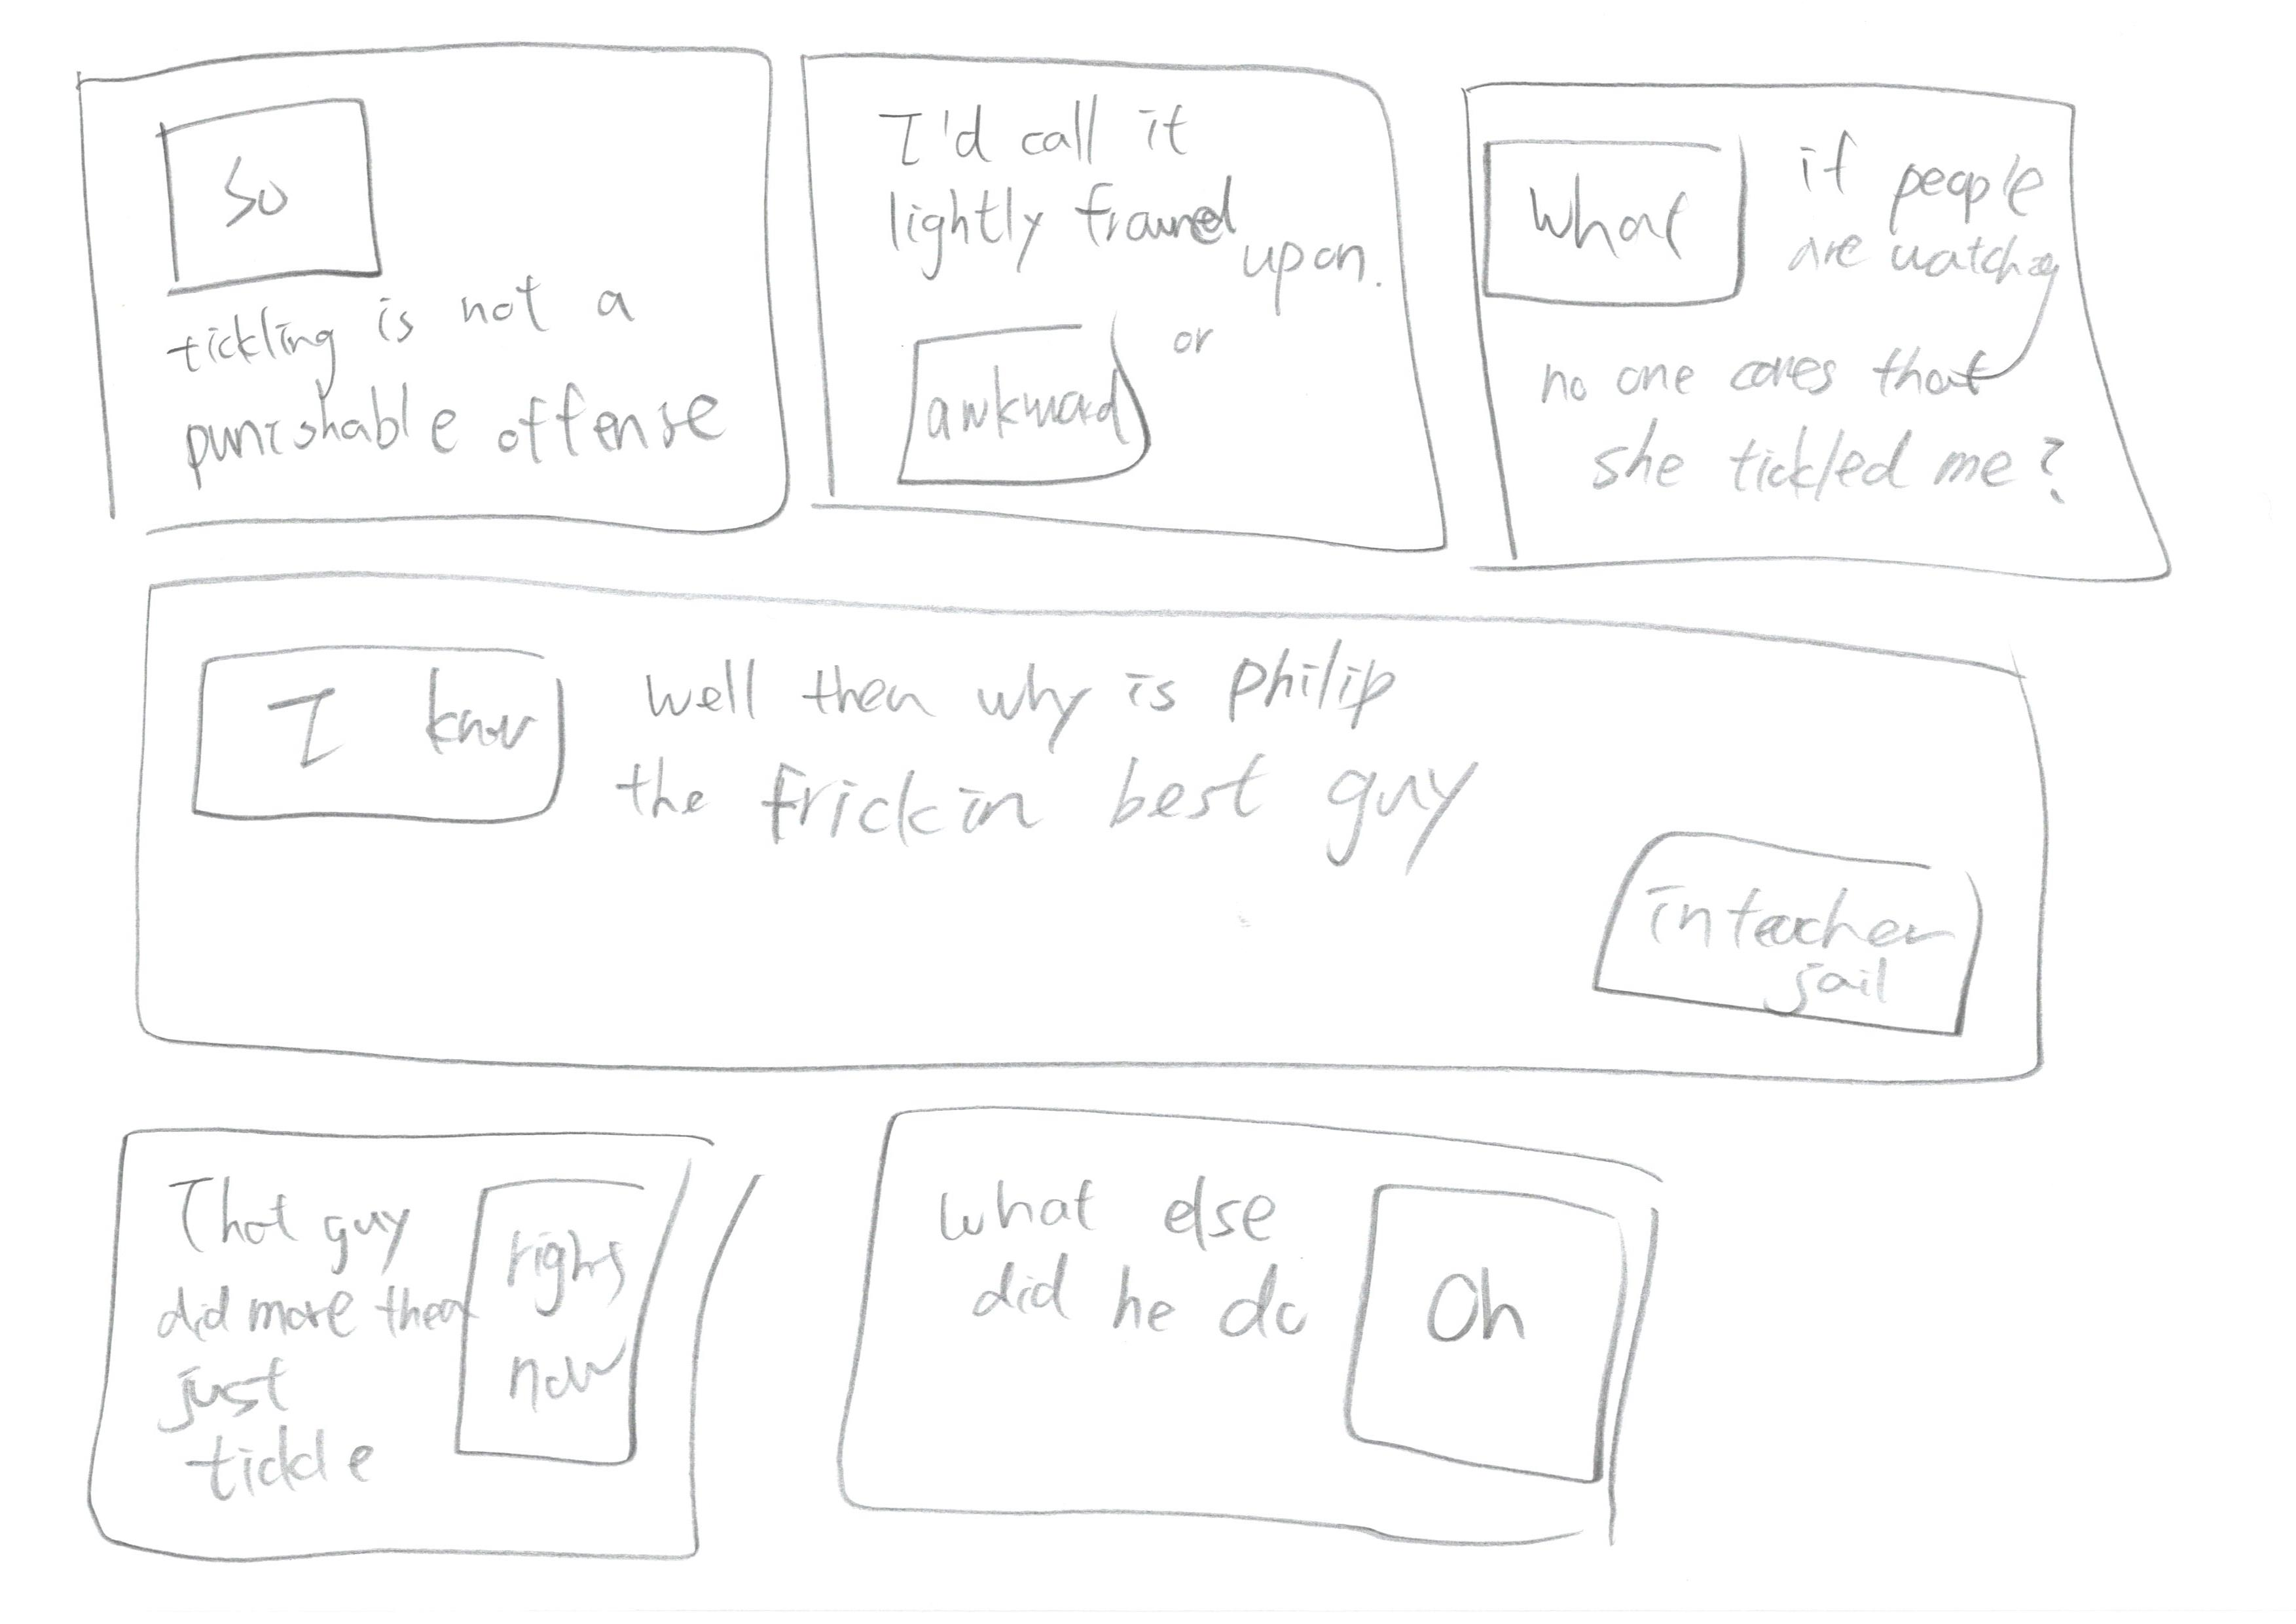btn-active: (1515, 800, 2008, 1060), (163, 624, 608, 852), (1320, 1178, 1635, 1497), (425, 1142, 696, 1512), (125, 90, 425, 316), (870, 306, 1180, 503), (1468, 114, 1762, 318)
double: (809, 1095, 1763, 1599), (26, 1090, 809, 1596)
row: (12, 9, 2275, 613), (28, 524, 2291, 1128), (11, 1072, 2278, 1624)
single: (70, 543, 2215, 1134)
text: (610, 643, 1500, 866), (135, 285, 728, 496), (837, 83, 1377, 295), (1494, 332, 2066, 524), (141, 1174, 447, 1517), (919, 1167, 1326, 1350), (1788, 118, 2060, 334)
